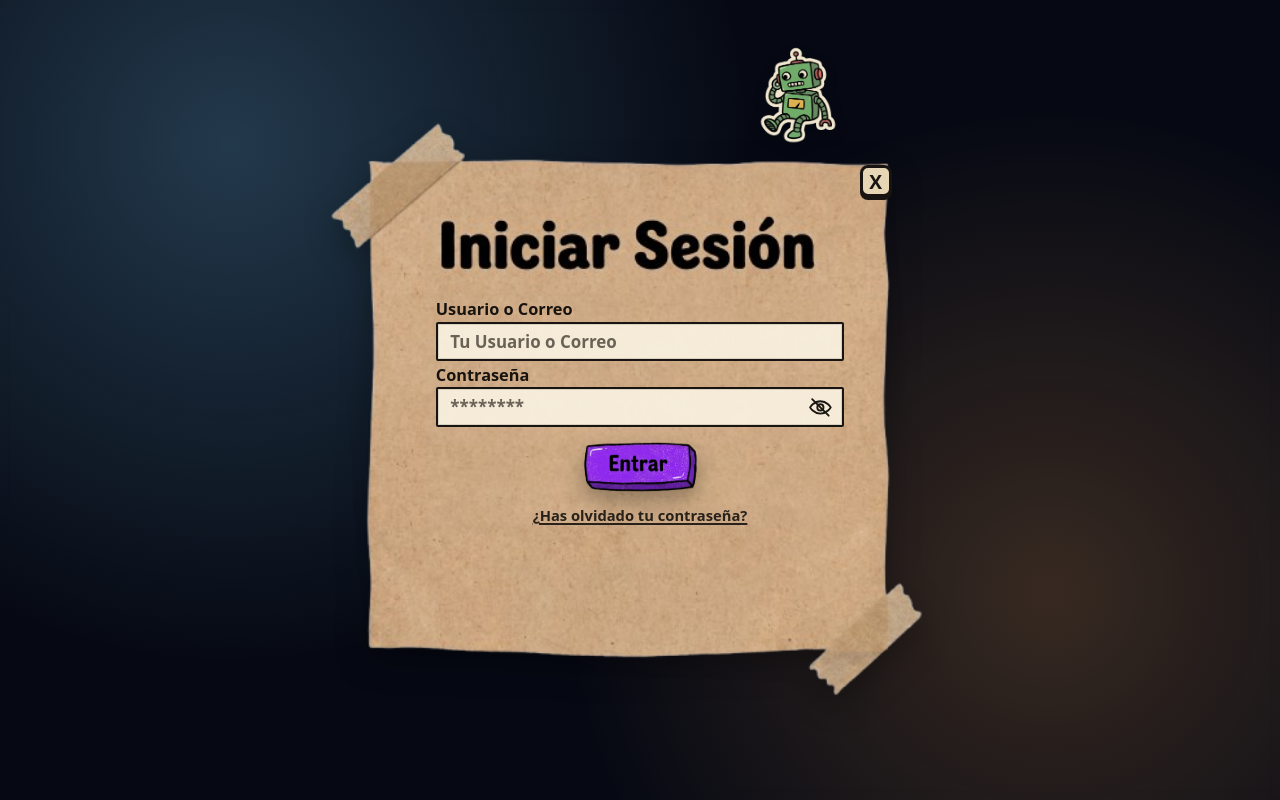
Test case: LoginModal › toggles password visibility
The width and height of the screenshot is (1280, 800).
Click the button named "Mostrar contraseña".
click(820, 407)  # box [808,395,833,419]
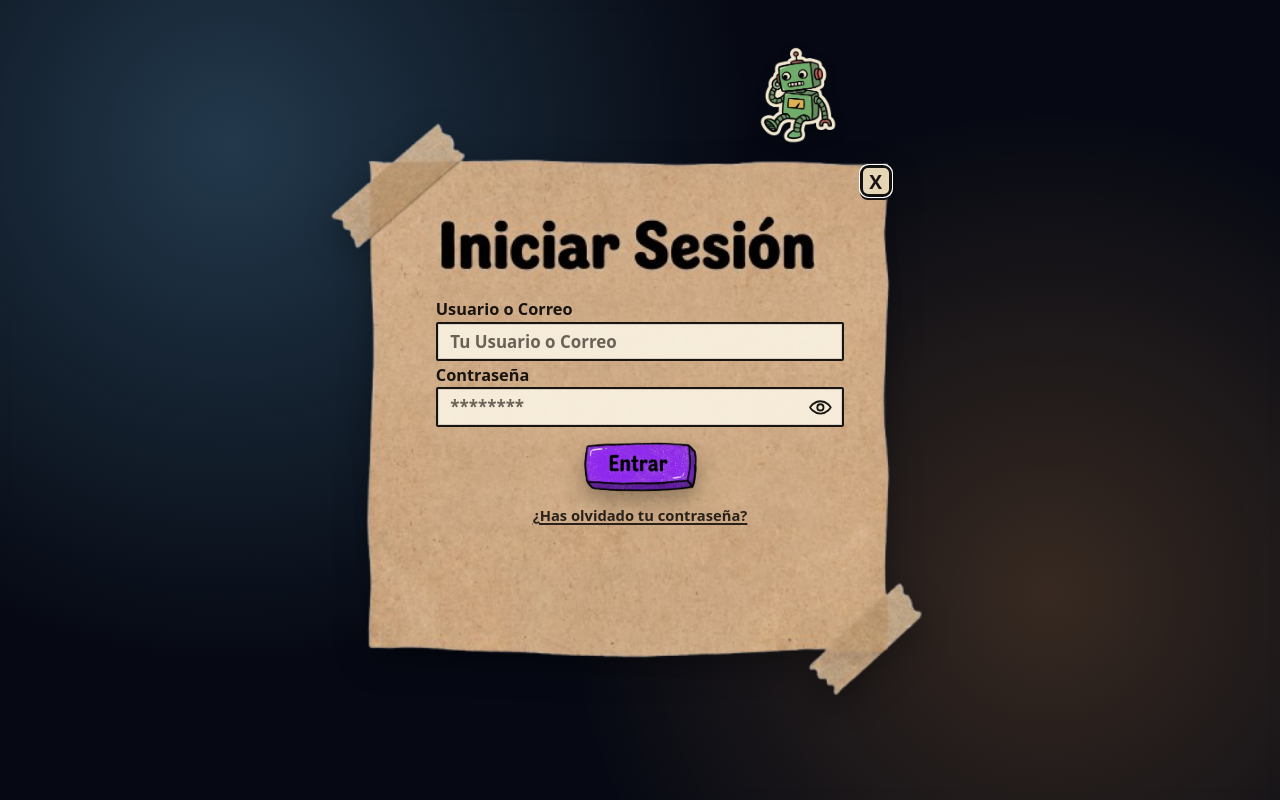
Now the button named "Ocultar contraseña" is shown, box [808,395,833,419]
